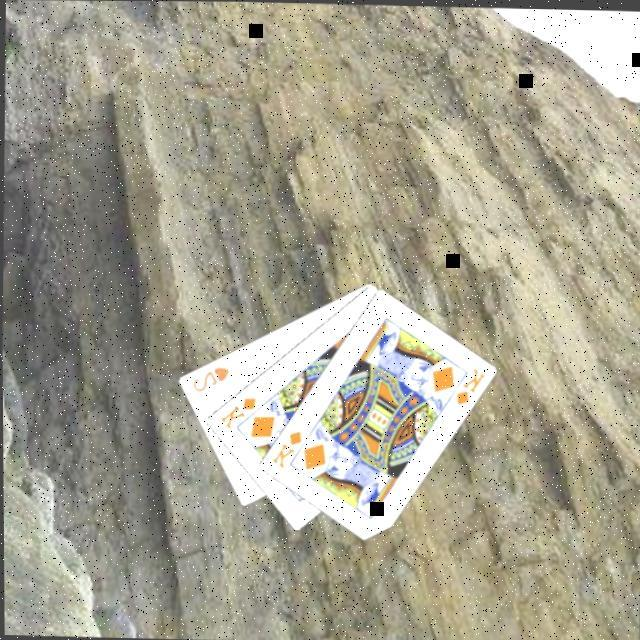2H: (189, 362, 234, 396)
KD: (268, 426, 306, 472), (452, 364, 489, 409), (218, 393, 260, 432)
